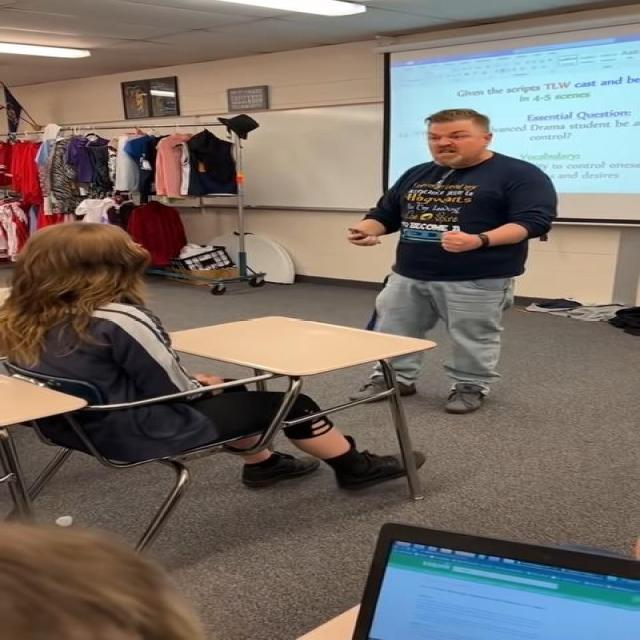NO-Mask: (425, 116, 492, 168)
